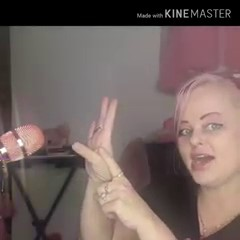Y: (65, 93, 153, 227)
